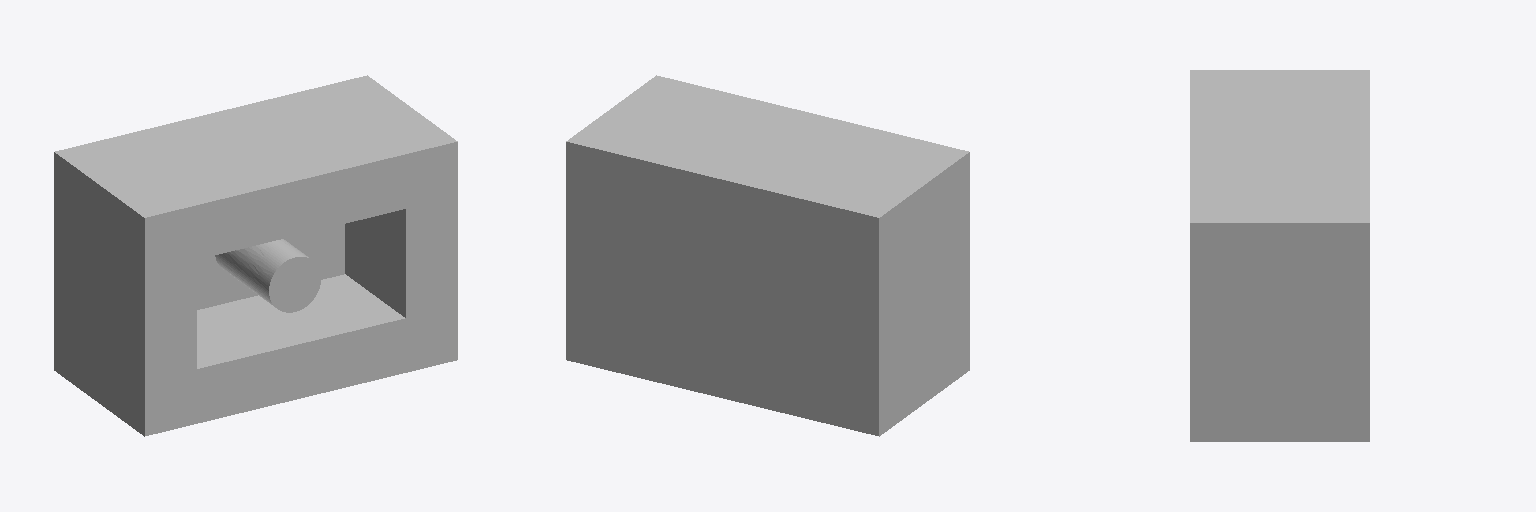
The model's file is tank46.obj.
3 views of the same model, side by side, from view 1: azimuth 30°, elevation 25°; view 2: azimuth 150°, elevation 25°; view 3: azimuth 270°, elevation 25° (orthographic).
Bounding box in the file's own units: 3 × 2 × 1.5.